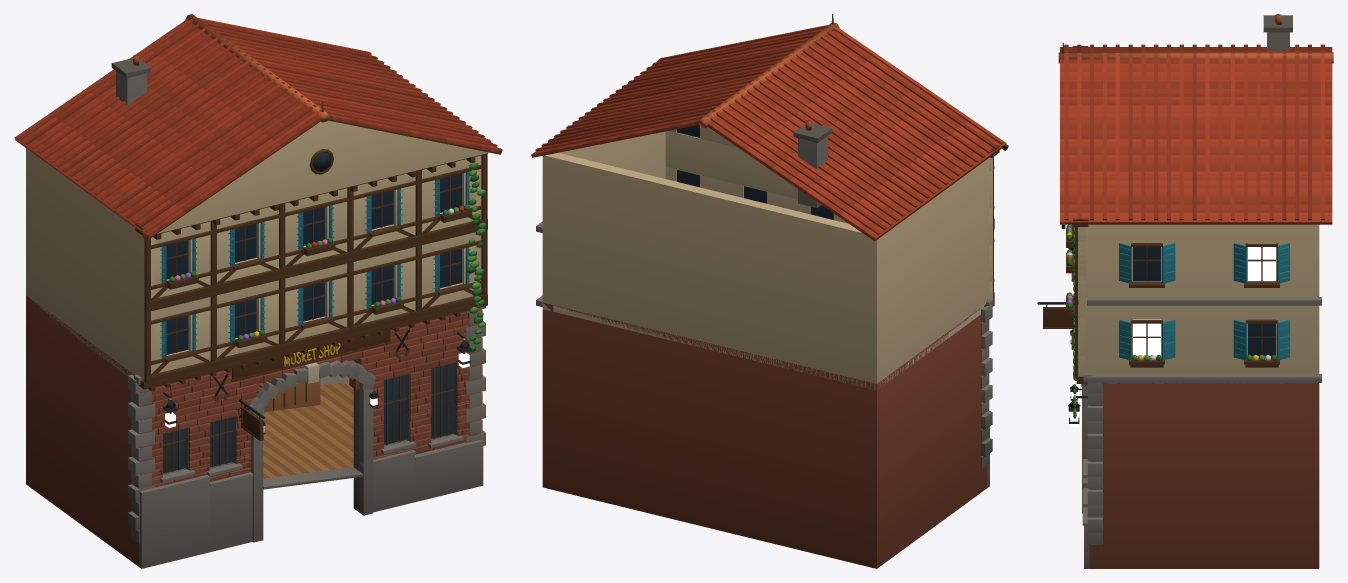
File: hill_musket_shop.glb
The picture shows the model from 3 angles, left to right: view 1: azimuth 30°, elevation 25°; view 2: azimuth 150°, elevation 25°; view 3: azimuth 270°, elevation 25°; orthographic projection. The views are drawn at different scales.
Visible parts, largest first — view 1: hill_R2_LOD0; view 2: hill_R2_LOD0; view 3: hill_R2_LOD0, sign_muskets.
Boxes of the visible parts, <box> form: hill_R2_LOD0: <box>14,14,502,568</box>; hill_R2_LOD0: <box>531,14,1008,568</box>; hill_R2_LOD0: <box>1037,14,1333,568</box>; sign_muskets: <box>1043,307,1074,328</box>.
Size of what is drawn, in the model's own units: 16.77 by 18.98 by 11.55.
